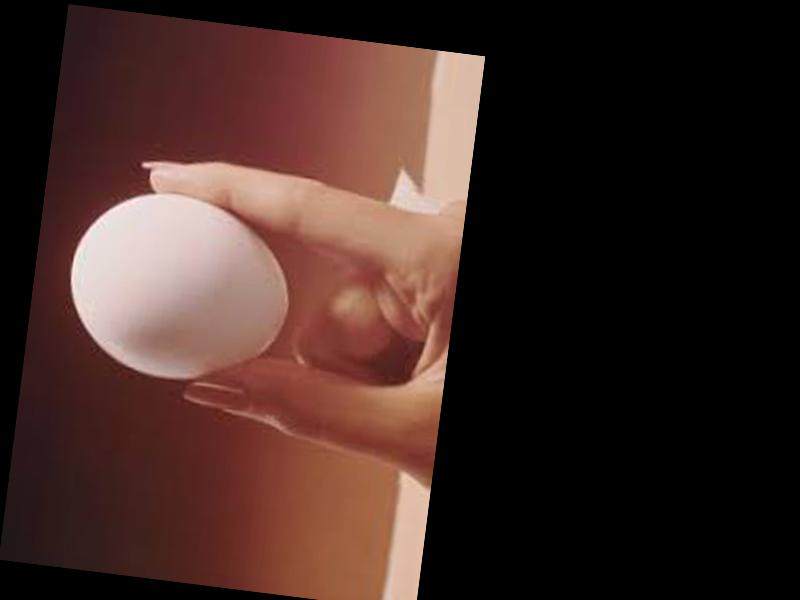Eggs: (60, 182, 303, 395)
